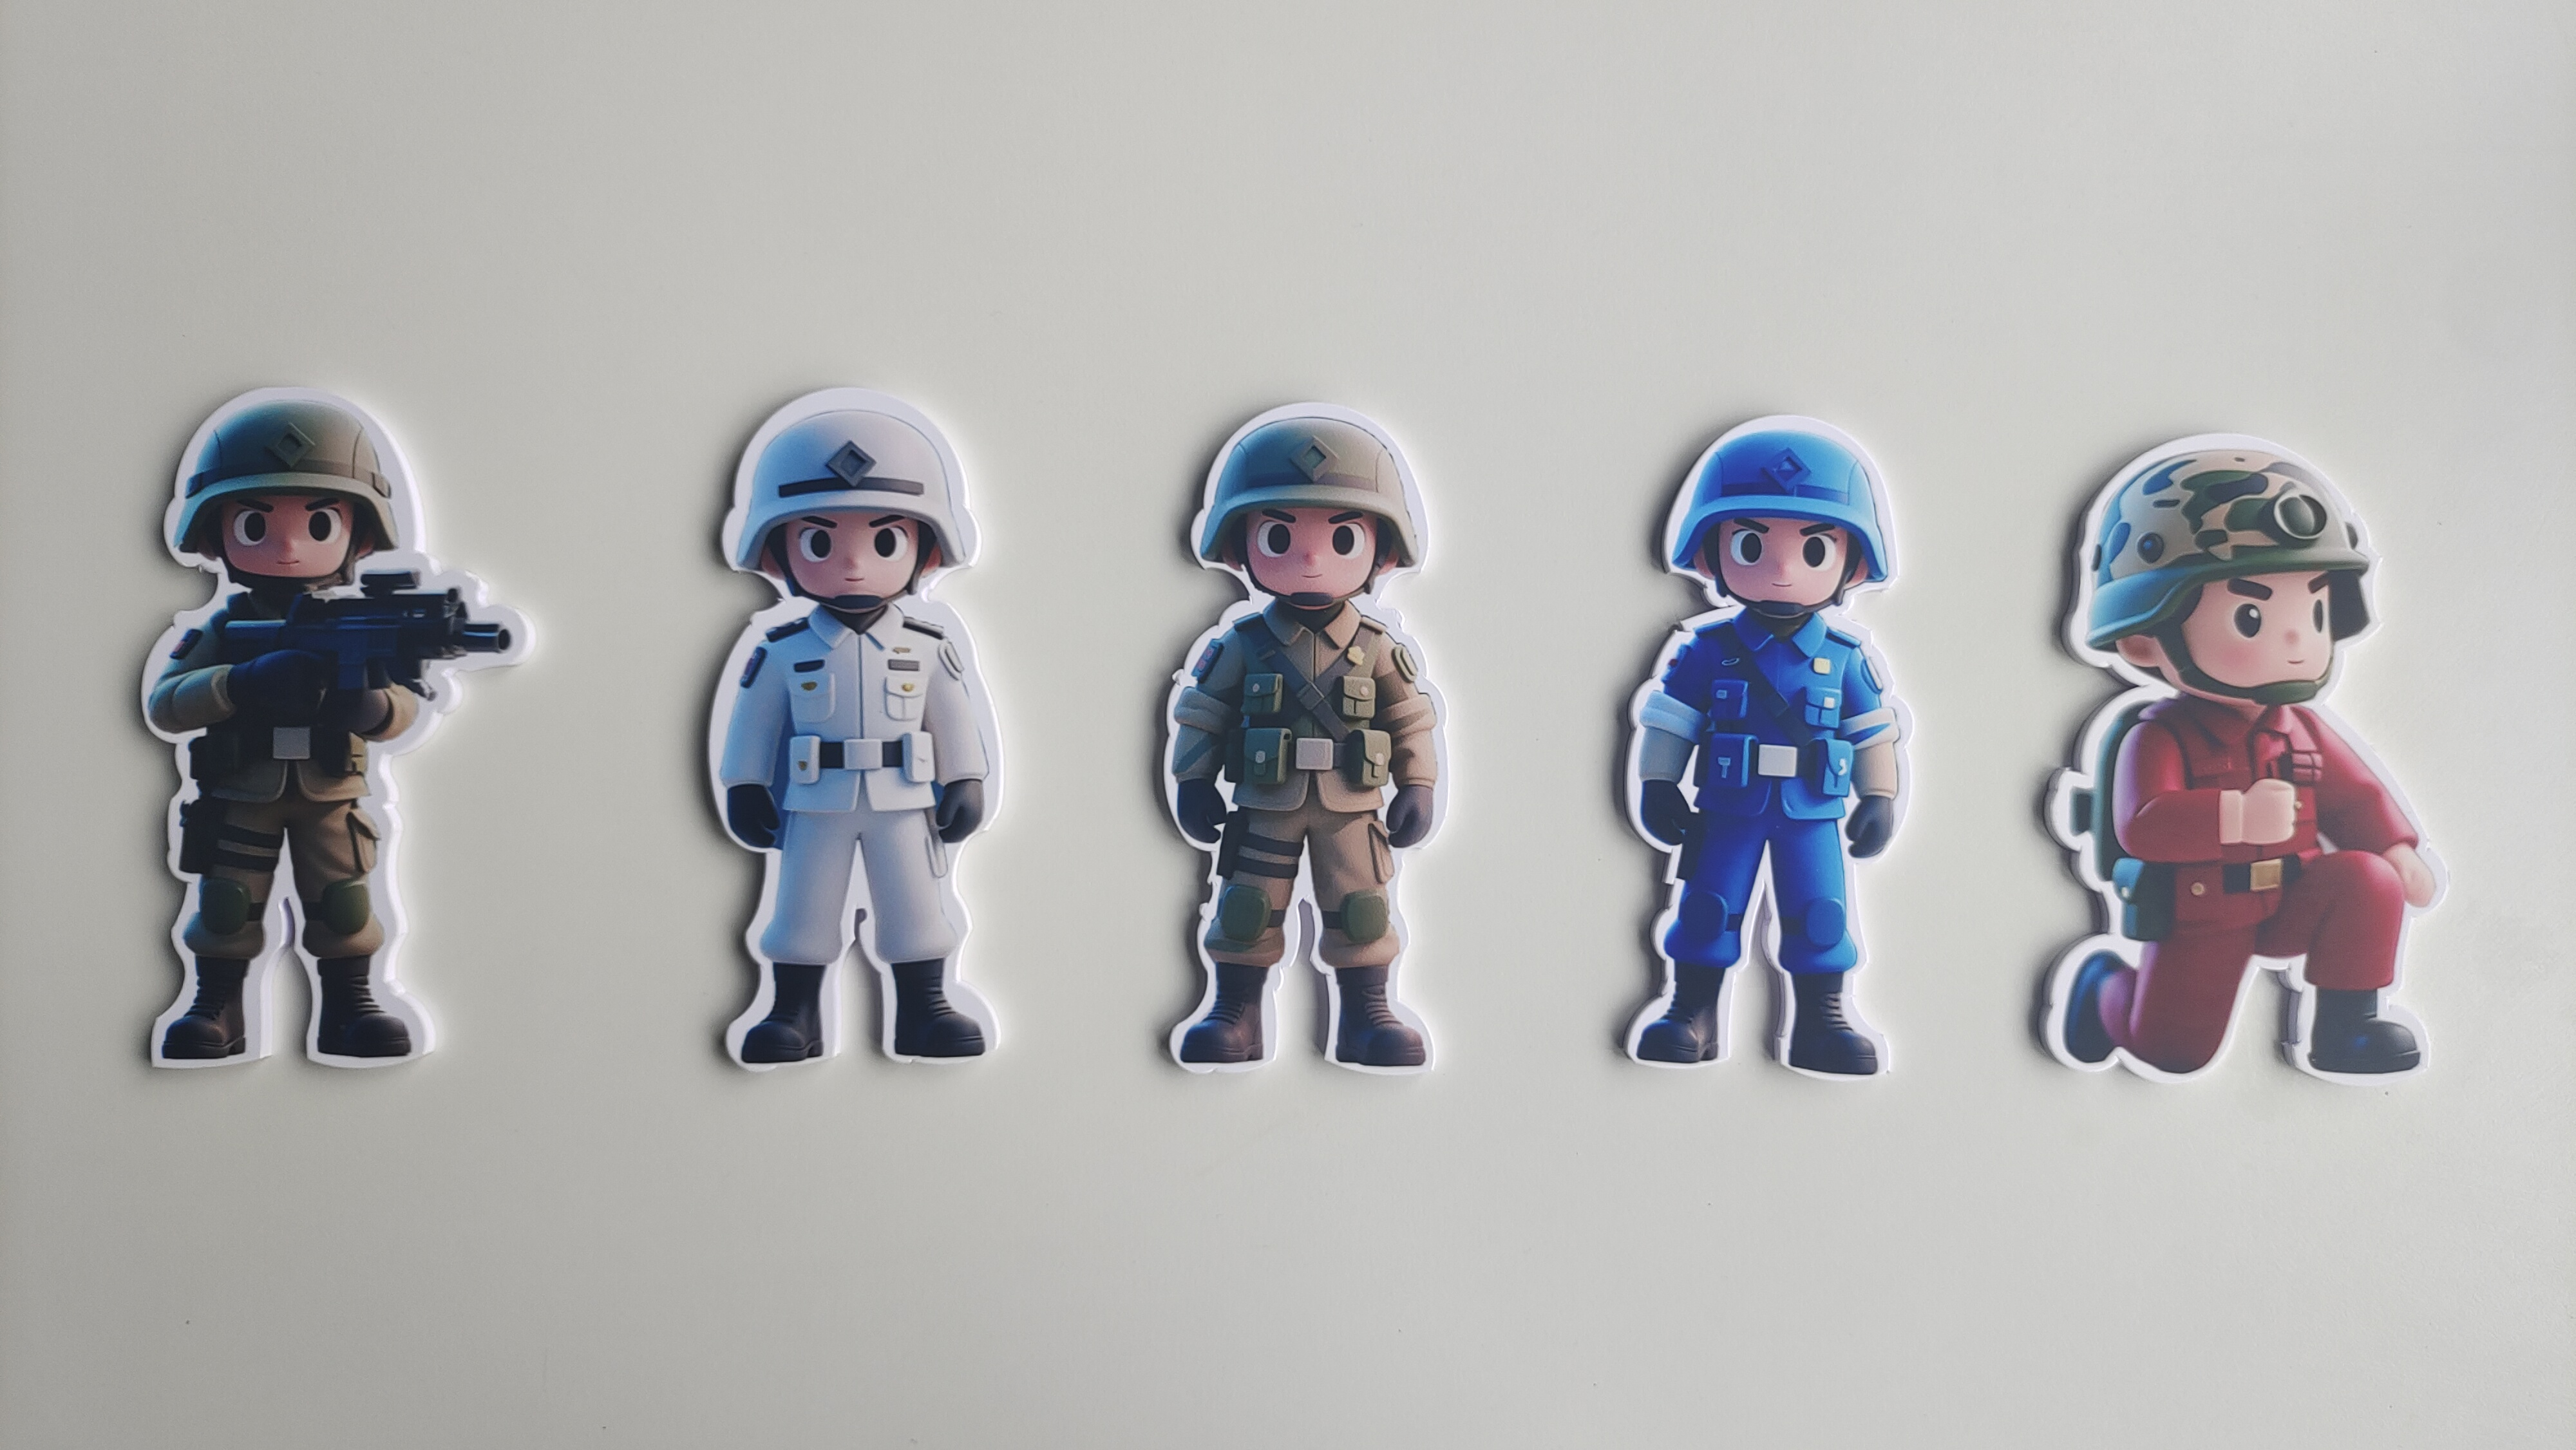enemy1: (2013, 702, 2440, 1084)
enemy2: (1596, 605, 1918, 1100)
friend: (122, 585, 455, 1073), (1148, 598, 1449, 1093)
hostage: (686, 608, 1044, 1084)
